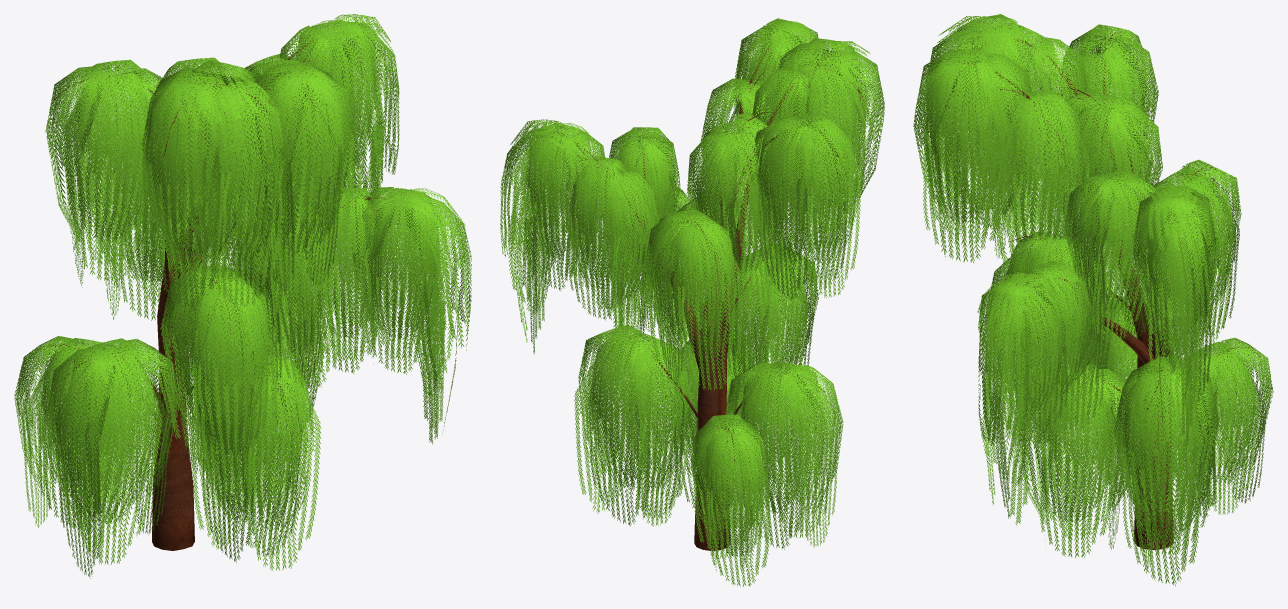
The model's file is tree.glb.
3 renders of one model, left to right at view 1: azimuth 30°, elevation 25°; view 2: azimuth 150°, elevation 25°; view 3: azimuth 270°, elevation 25°, orthographic. The views are drawn at different scales.
Parts seen in each view (by area): view 1: model_83, model_14; view 2: model_83, model_14; view 3: model_83, model_14.
Part boxes in pixels (x1=…): model_83: x1=14, y1=14, x2=471, y2=578; model_14: x1=30, y1=39, x2=403, y2=550; model_83: x1=500, y1=18, x2=884, y2=586; model_14: x1=566, y1=31, x2=868, y2=550; model_83: x1=913, y1=14, x2=1273, y2=586; model_14: x1=923, y1=33, x2=1258, y2=549.
Bounding box in the file's own units: 14.05 × 19.43 × 12.57.
Materials: 2 (2 with a texture image).
